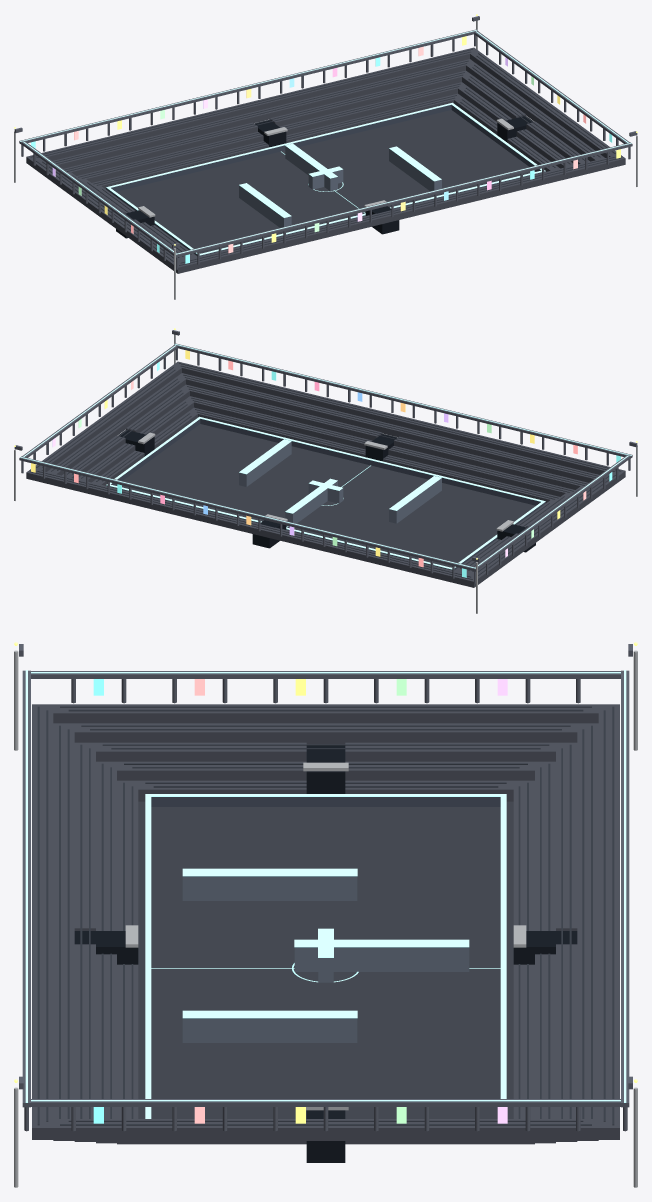
The model's file is arena_gauntlet.glb.
3 renders of one model, top to bottom at view 1: azimuth 30°, elevation 25°; view 2: azimuth 150°, elevation 25°; view 3: azimuth 270°, elevation 25°, orthographic. The views are drawn at different scales.
Parts seen in each view (by area): view 1: Stands, Floor, Seats, Lintel, Kerbs, Colonnade, Walls, KerbGlow, Gates, Banners, WallTrim, Floodlights; view 2: Stands, Floor, Seats, Lintel, Kerbs, Colonnade, Walls, KerbGlow, Gates, Banners, WallTrim, Floodlights; view 3: Stands, Floor, Seats, Lintel, Walls, Gates, KerbGlow, WallTrim, Kerbs, Colonnade, Floodlights, Banners.
Part boxes in pixels (<box>): Stands: <box>26,47,625,273</box>; Floor: <box>116,110,535,253</box>; Seats: <box>31,49,620,265</box>; Lintel: <box>19,29,632,257</box>; Kerbs: <box>106,104,545,256</box>; Colonnade: <box>21,34,630,269</box>; Walls: <box>239,146,441,227</box>; KerbGlow: <box>106,102,545,255</box>; Gates: <box>116,116,533,238</box>; Banners: <box>31,36,620,263</box>; WallTrim: <box>239,143,441,217</box>; Floodlights: <box>14,16,637,299</box>; Stands: <box>26,361,625,587</box>; Floor: <box>116,424,535,567</box>; Seats: <box>31,363,620,579</box>; Lintel: <box>19,343,632,571</box>; Kerbs: <box>106,418,545,570</box>; Colonnade: <box>21,348,630,583</box>; Walls: <box>239,441,441,523</box>; KerbGlow: <box>106,416,545,569</box>; Gates: <box>118,430,535,552</box>; Banners: <box>31,350,620,577</box>; WallTrim: <box>239,439,441,513</box>; Floodlights: <box>14,330,637,613</box>; Stands: <box>32,704,619,1144</box>; Floor: <box>138,801,513,1118</box>; Seats: <box>37,706,614,1125</box>; Lintel: <box>22,670,629,1107</box>; Walls: <box>182,876,469,1042</box>; Gates: <box>74,745,577,1162</box>; KerbGlow: <box>145,794,506,1118</box>; WallTrim: <box>182,868,469,1018</box>; Kerbs: <box>151,797,500,806</box>; Colonnade: <box>24,679,627,1131</box>; Floodlights: <box>14,644,637,1187</box>; Banners: <box>93,679,507,1123</box>.
Size of the model in its own units: 244 by 28.35 by 146.
